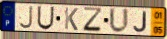J: (18, 5, 34, 30), (133, 10, 148, 33)
K: (64, 7, 79, 32)
U: (109, 7, 131, 35), (36, 5, 56, 31)
Z: (83, 7, 104, 34)
